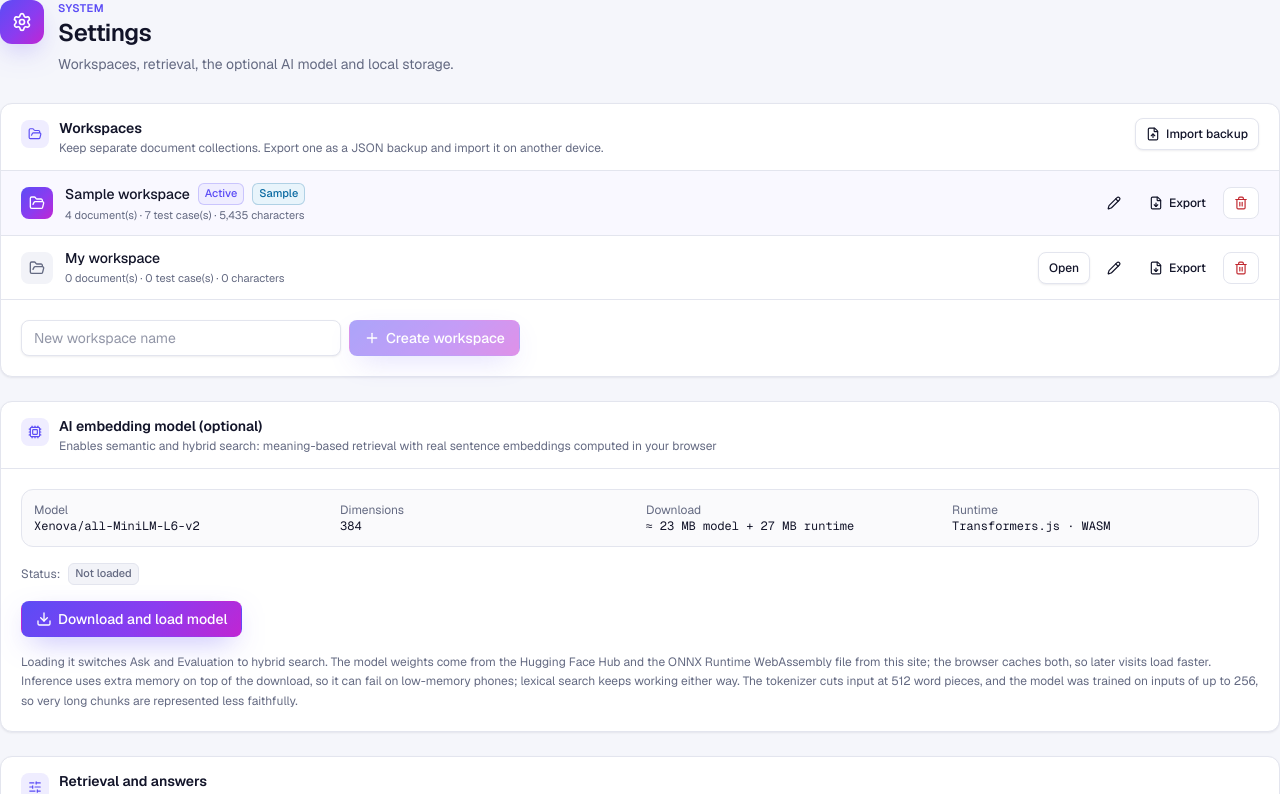
SettingsView and the embedding engine › reports a failed model load and keeps lexical mode
Check: the heading "Settings" is shown, box 58,16 -> 151,48
Click the button "Download and load model".
click(132, 619)  # box 21,601 -> 242,637
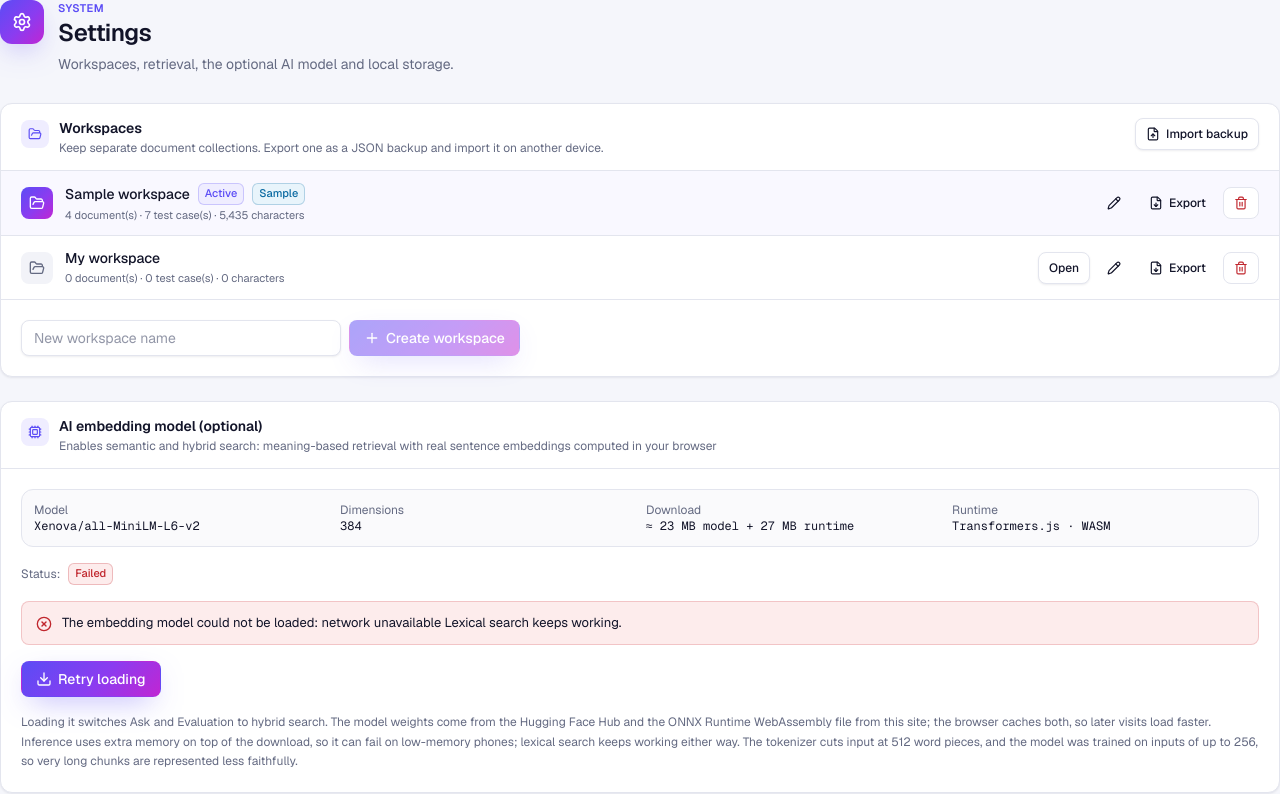
Check: the text "could not be loaded: network unavailable" is shown, box 62,614 -> 441,631
Check: the button "Retry loading" is shown, box 21,661 -> 161,697
